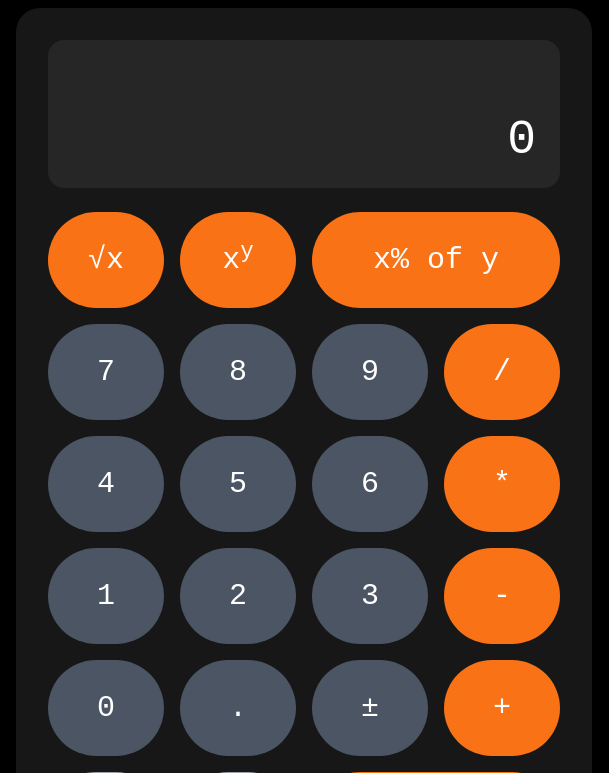
Calculator › clears display when C is clicked
Click the button "1".
click(106, 596)  # box [48,548,164,644]
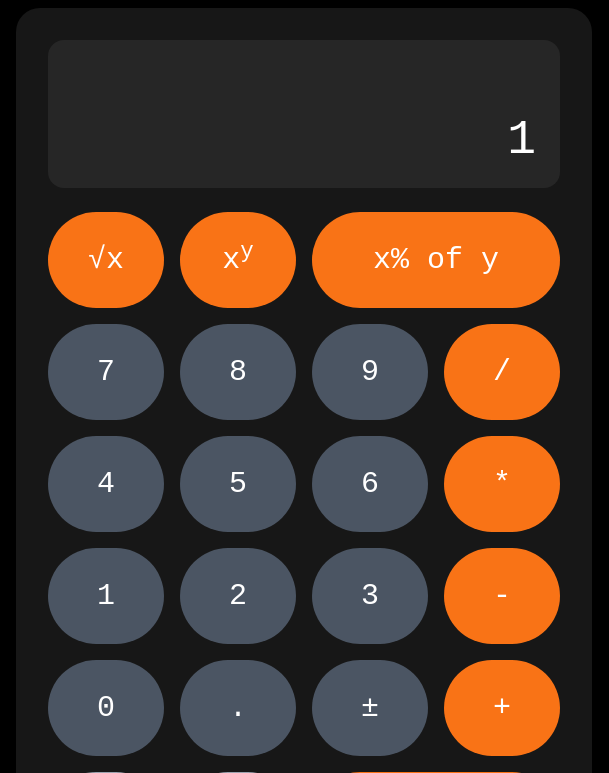
Click the button "2".
click(238, 596)  # box [180,548,296,644]
(page scrolled)
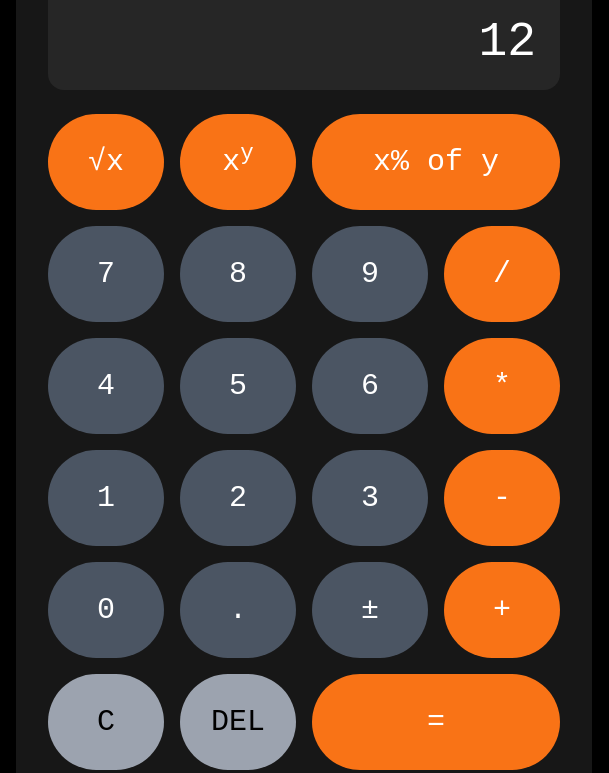
Click the button "C".
click(106, 722)  # box [48,674,164,770]
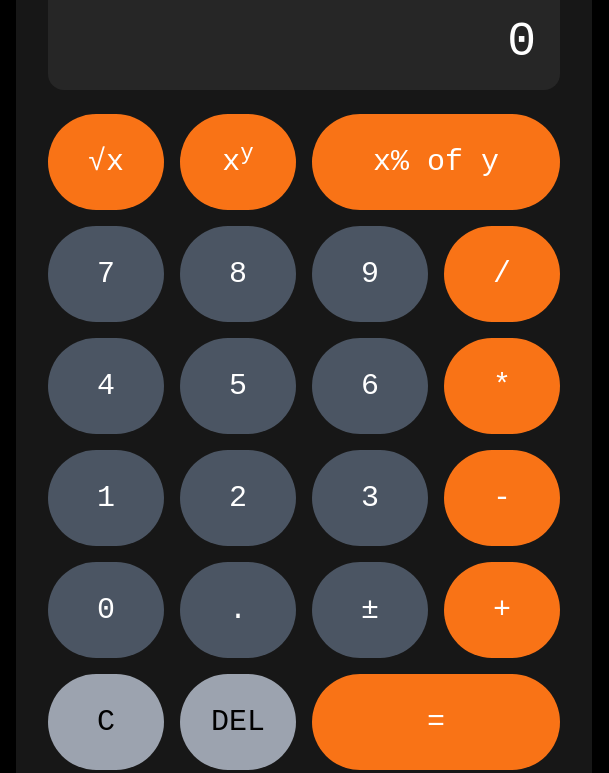
Now the text with test id "display" reads "0", box [507,15,536,69]
